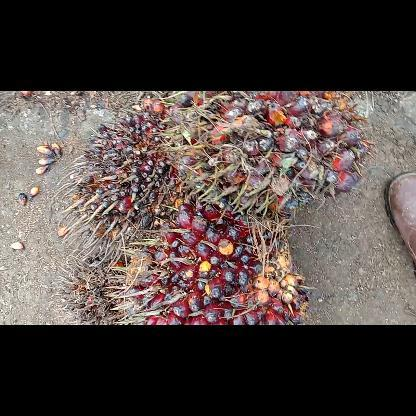TBS abnormal: (47, 103, 184, 275), (50, 242, 134, 324)
TBS masak: (163, 90, 377, 224), (125, 200, 315, 324)
